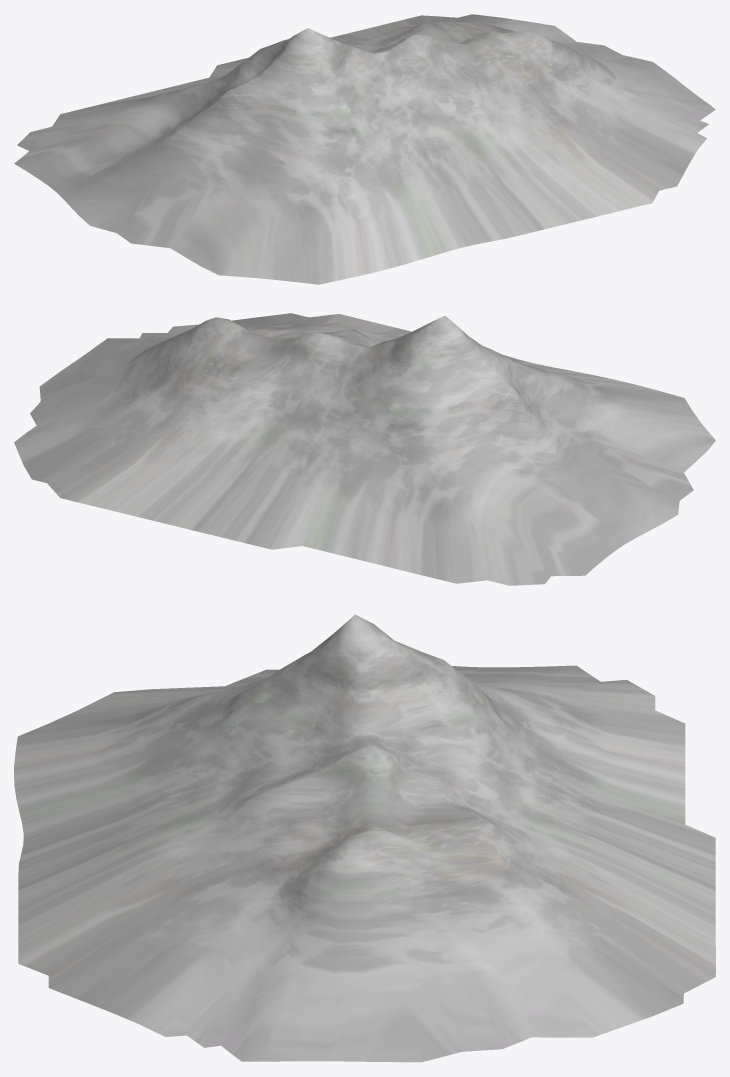
File: P_Mountain02.obj
The picture shows the model from 3 angles, top to bottom: view 1: azimuth 30°, elevation 25°; view 2: azimuth 150°, elevation 25°; view 3: azimuth 270°, elevation 25°; orthographic projection. The views are drawn at different scales.
Size of the model in its own units: 3486 by 798 by 2574.
